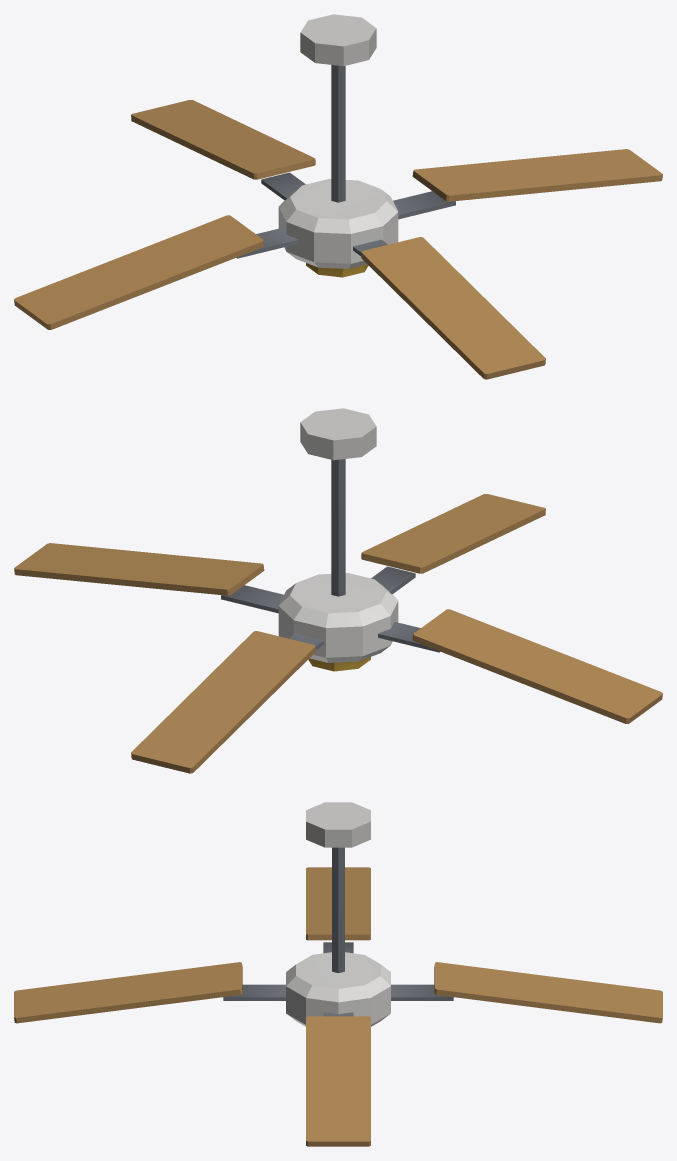
File: fan_ceiling_01.glb
3 renders of one model, top to bottom at view 1: azimuth 30°, elevation 25°; view 2: azimuth 150°, elevation 25°; view 3: azimuth 270°, elevation 25°, orthographic. The views are drawn at different scales.
Visible parts, largest first — view 1: blades_mesh, fan_ceiling_01_mesh; view 2: blades_mesh, fan_ceiling_01_mesh; view 3: blades_mesh, fan_ceiling_01_mesh.
Boxes of the visible parts, bbox=[...] form: blades_mesh: bbox=[14, 100, 662, 379]; fan_ceiling_01_mesh: bbox=[278, 14, 398, 277]; blades_mesh: bbox=[14, 494, 662, 773]; fan_ceiling_01_mesh: bbox=[278, 408, 398, 671]; blades_mesh: bbox=[14, 867, 662, 1146]; fan_ceiling_01_mesh: bbox=[286, 802, 390, 1026].
Size of the model in its own units: 1.3 by 0.47 by 1.3.
1 material, 1 textured.
